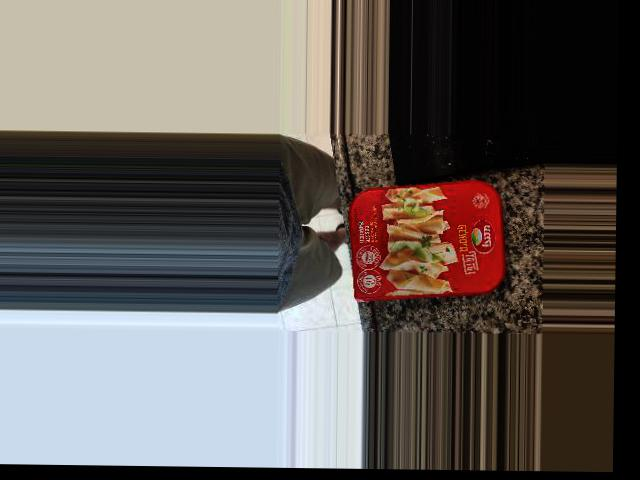cheese: (318, 159, 478, 285)
